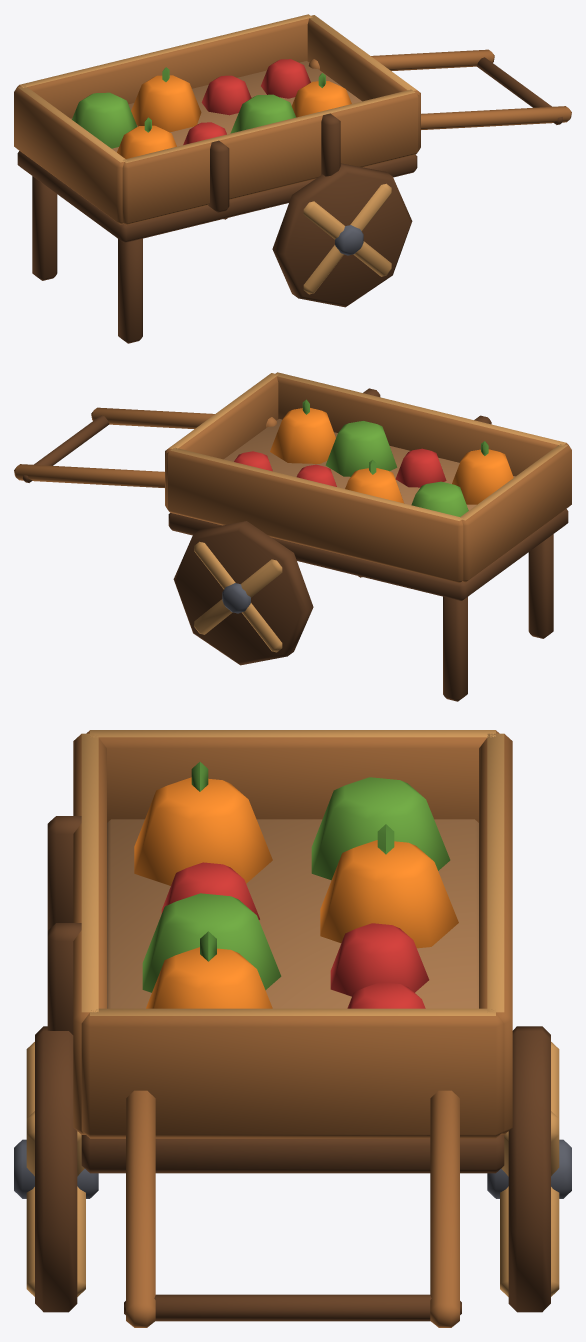
Rendered from P_MedVegetableCart.fbx.
The picture shows the model from 3 angles, top to bottom: view 1: azimuth 30°, elevation 25°; view 2: azimuth 150°, elevation 25°; view 3: azimuth 270°, elevation 25°; orthographic projection. The views are drawn at different scales.
Visible parts, largest first — view 1: M_VegetableCart; view 2: M_VegetableCart; view 3: M_VegetableCart.
Part boxes in pixels (bbox=[...]): M_VegetableCart: bbox=[14, 14, 571, 343]; M_VegetableCart: bbox=[14, 372, 571, 701]; M_VegetableCart: bbox=[14, 730, 571, 1327].
Bounding box in the file's own units: 2.51 × 1.03 × 1.32.
1 material, 1 textured.
